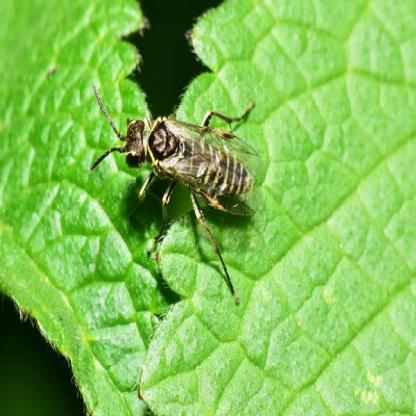sawfly: (78, 78, 266, 302)
